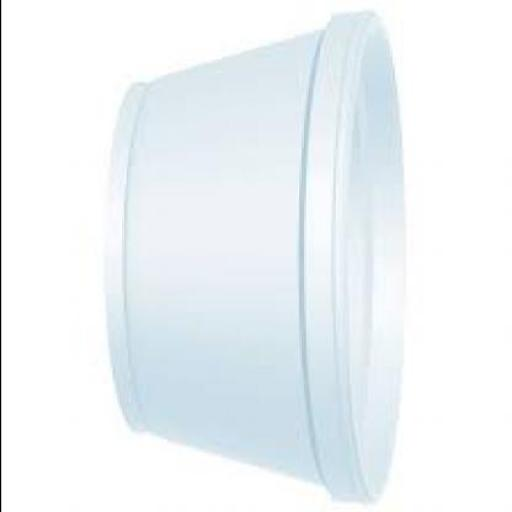paper: (114, 14, 407, 507)
